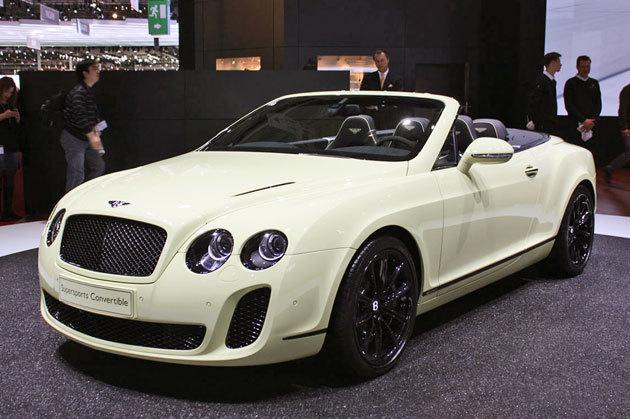Car: (1, 55, 623, 404)
